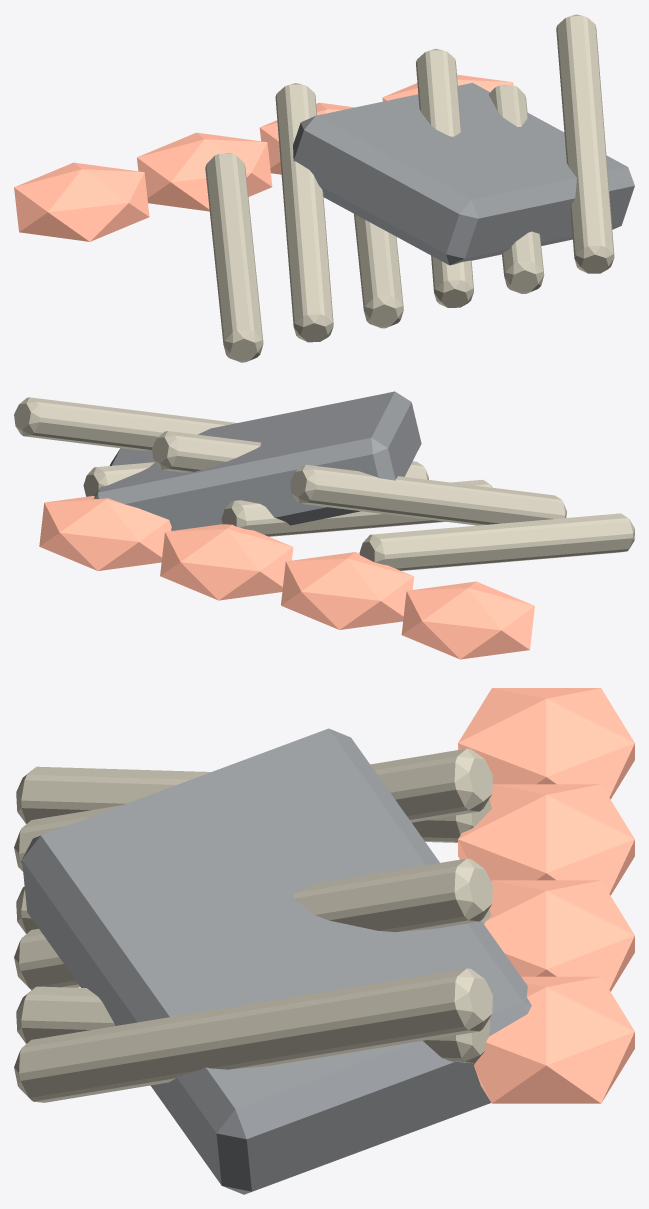
The model's file is gravewood_zombie_remains.glb.
3 views of the same model, one above another, from view 1: azimuth 30°, elevation 25°; view 2: azimuth 150°, elevation 25°; view 3: azimuth 270°, elevation 25° (orthographic). The views are drawn at different scales.
Bounding box in the file's own units: 1.56 × 0.4409 × 0.9551.
